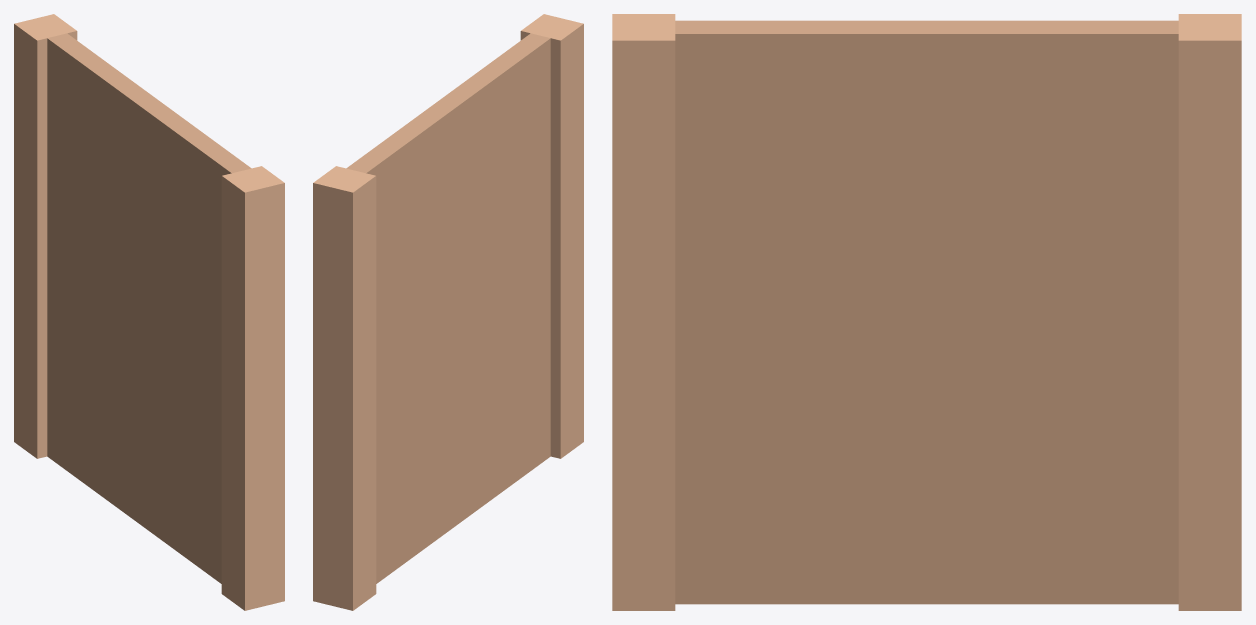
File: wallWood.glb
The picture shows the model from 3 angles, left to right: view 1: azimuth 30°, elevation 25°; view 2: azimuth 150°, elevation 25°; view 3: azimuth 270°, elevation 25°; orthographic projection. The views are drawn at different scales.
Parts seen in each view (by area): view 1: wallWood; view 2: wallWood; view 3: wallWood.
Part boxes in pixels (<box>): wallWood: <box>14,14,284,610</box>; wallWood: <box>313,14,583,610</box>; wallWood: <box>612,14,1241,610</box>.
Size of the model in its own units: 0.1 by 1 by 1.
